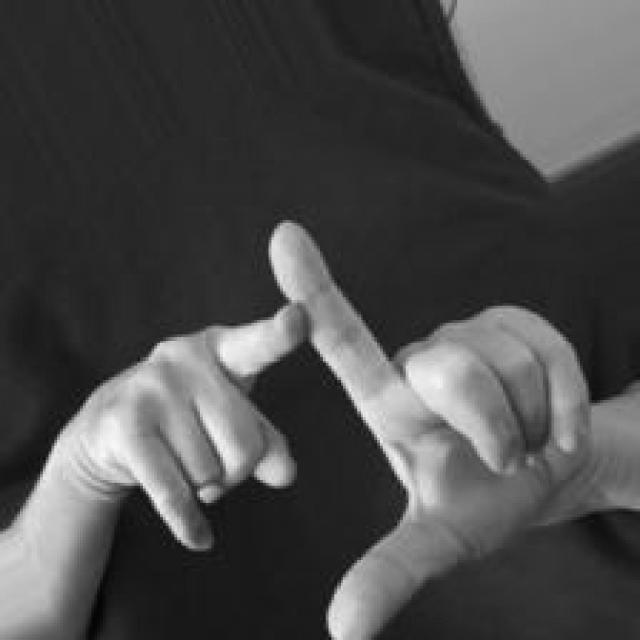J: (46, 215, 596, 640)
